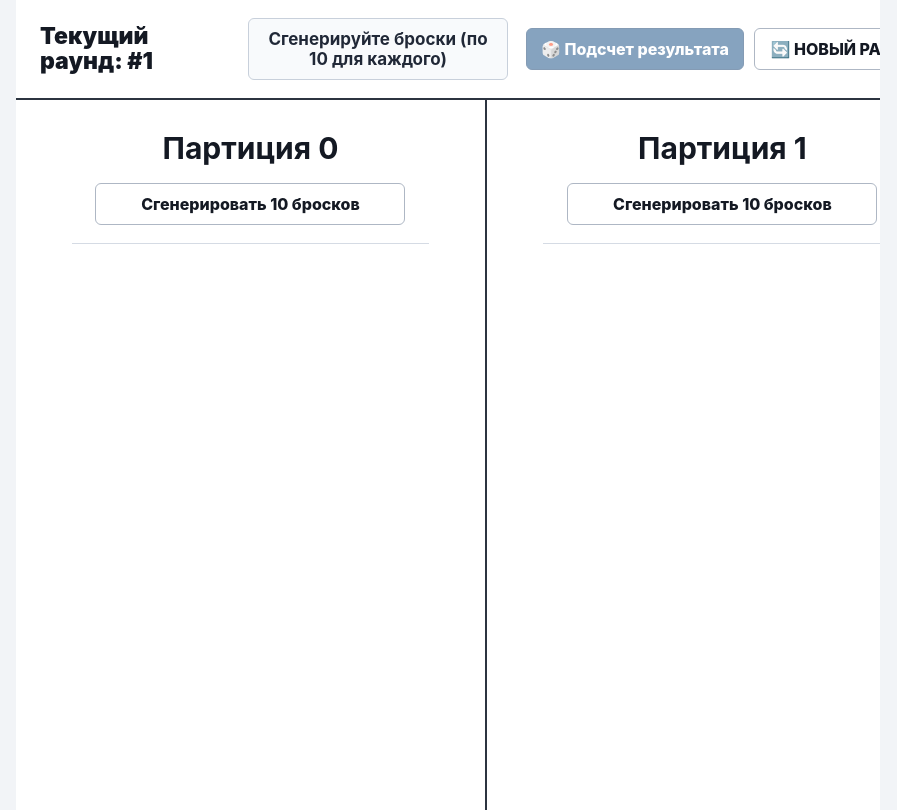
Test: App round flow › shows a server error when generation fails
The width and height of the screenshot is (897, 810).
Expected: the text "Текущий раунд: #1" is shown, x1=40 y1=22 x2=153 y2=75
Step 1. Click the 1st button "Сгенерировать 10 бросков" → click(250, 204), box x1=96 y1=183 x2=406 y2=225
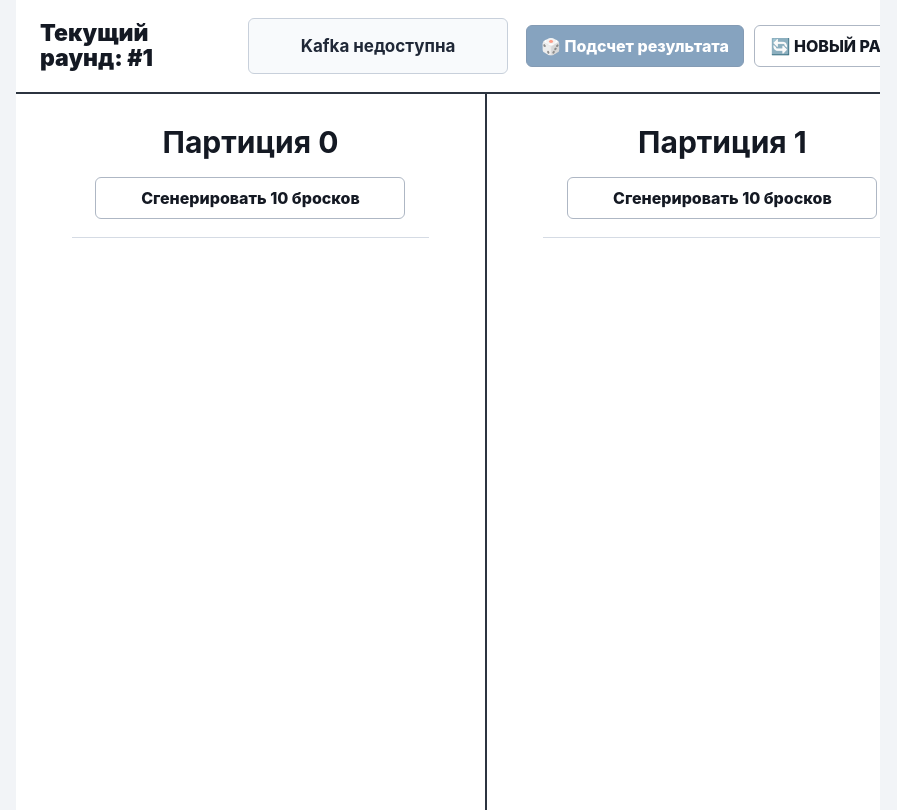
Expected: the text "Kafka недоступна" is shown, x1=248 y1=18 x2=508 y2=74
